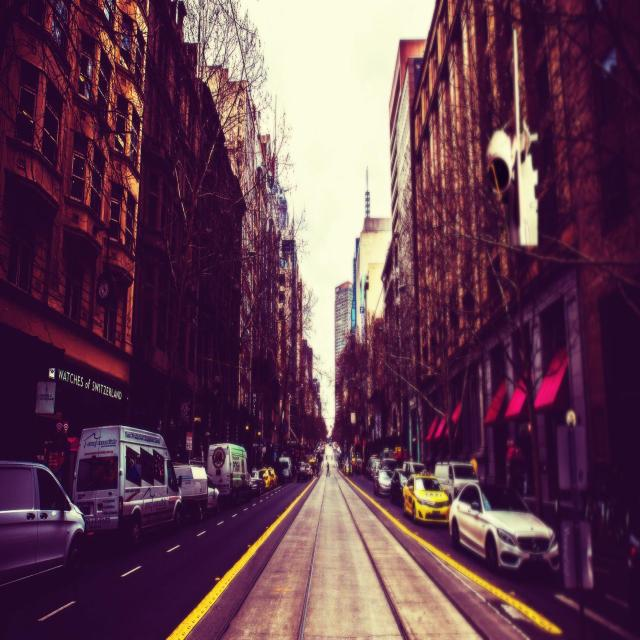airplane: (487, 27, 539, 247)
